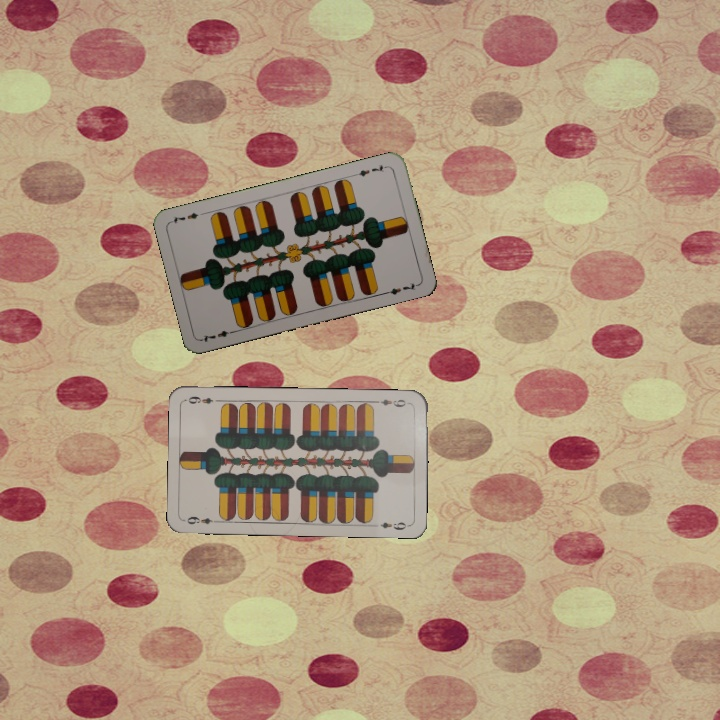E7: (350, 161, 391, 179), (198, 326, 238, 344)
E9: (372, 395, 413, 410), (183, 512, 222, 527)
